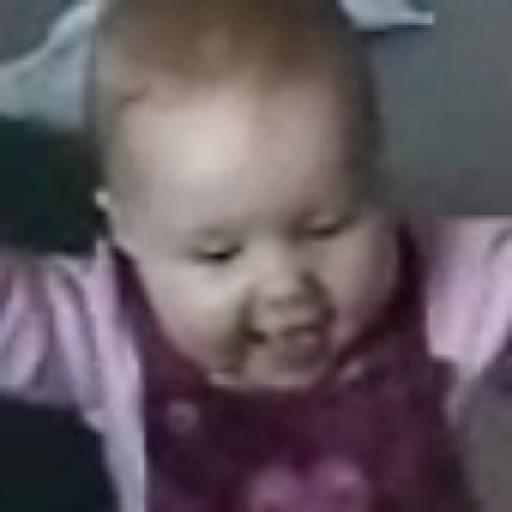Autism: (83, 5, 483, 488)
